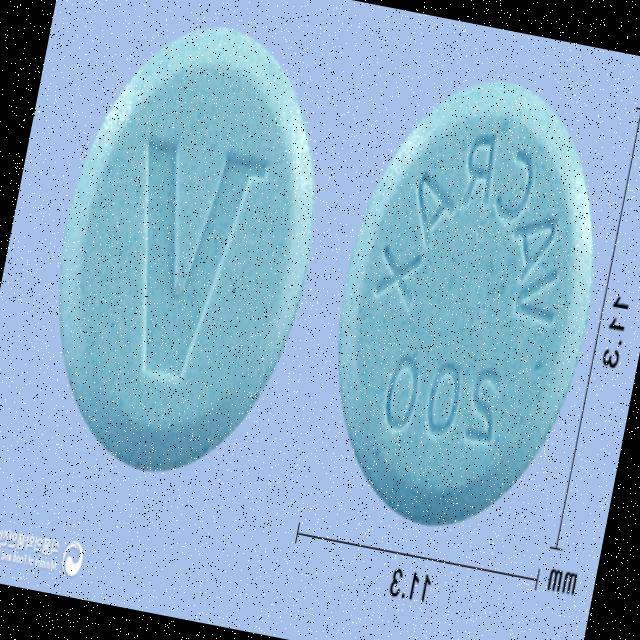Vacrax Tab: (21, 2, 352, 492), (301, 58, 630, 546)
